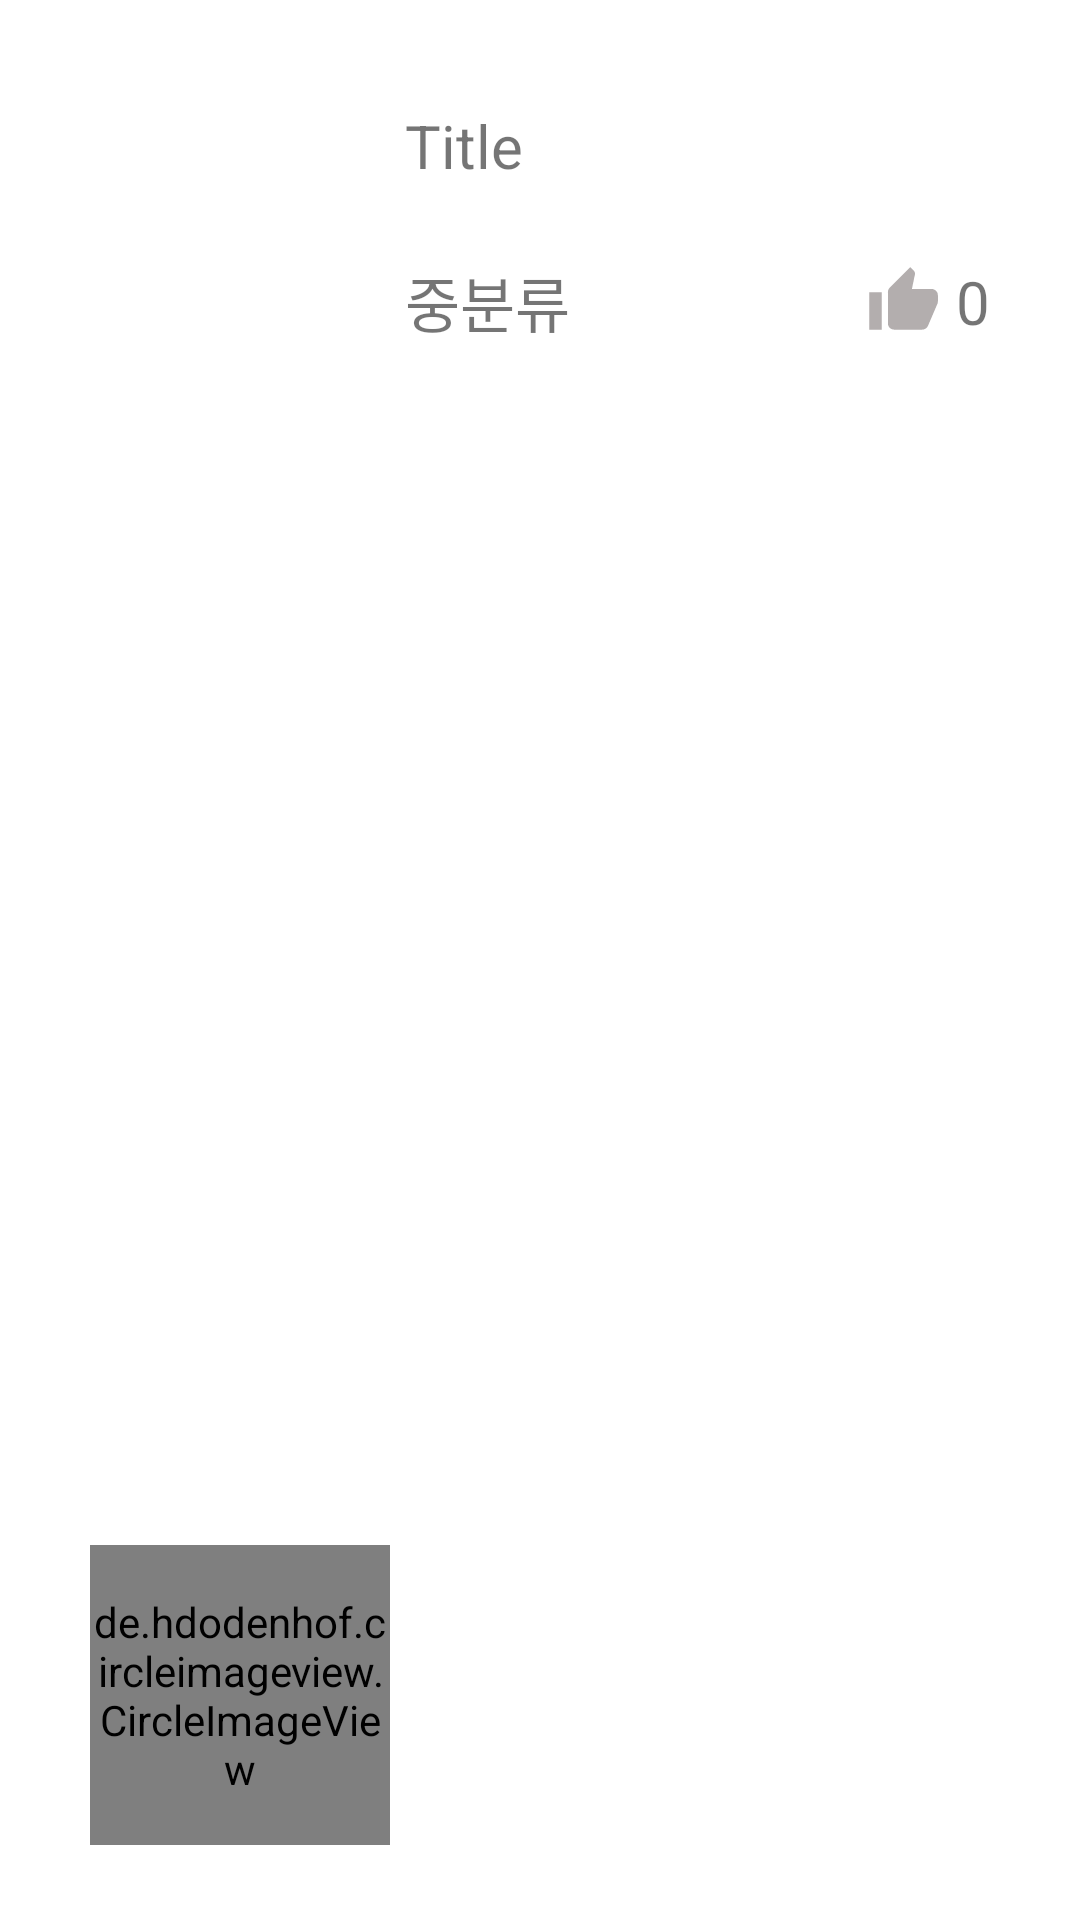

Icons on this 1080 x 1920 Android screen, each with its box as (x1, y1, x2, y2):
thumb up: (869, 267, 938, 330)
